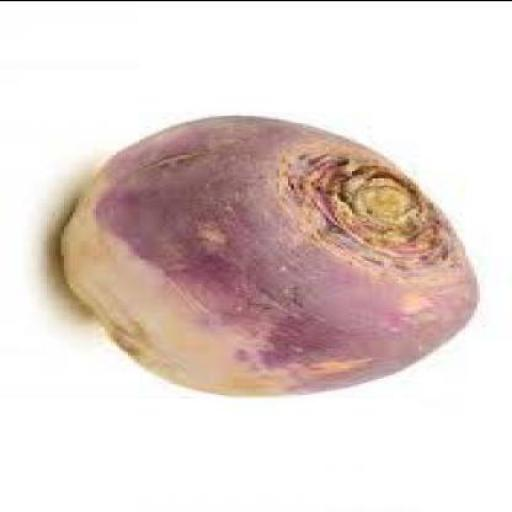biodegradable: (64, 116, 482, 397)
